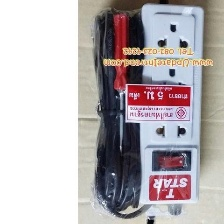three_eye_plug: (128, 0, 209, 208)
